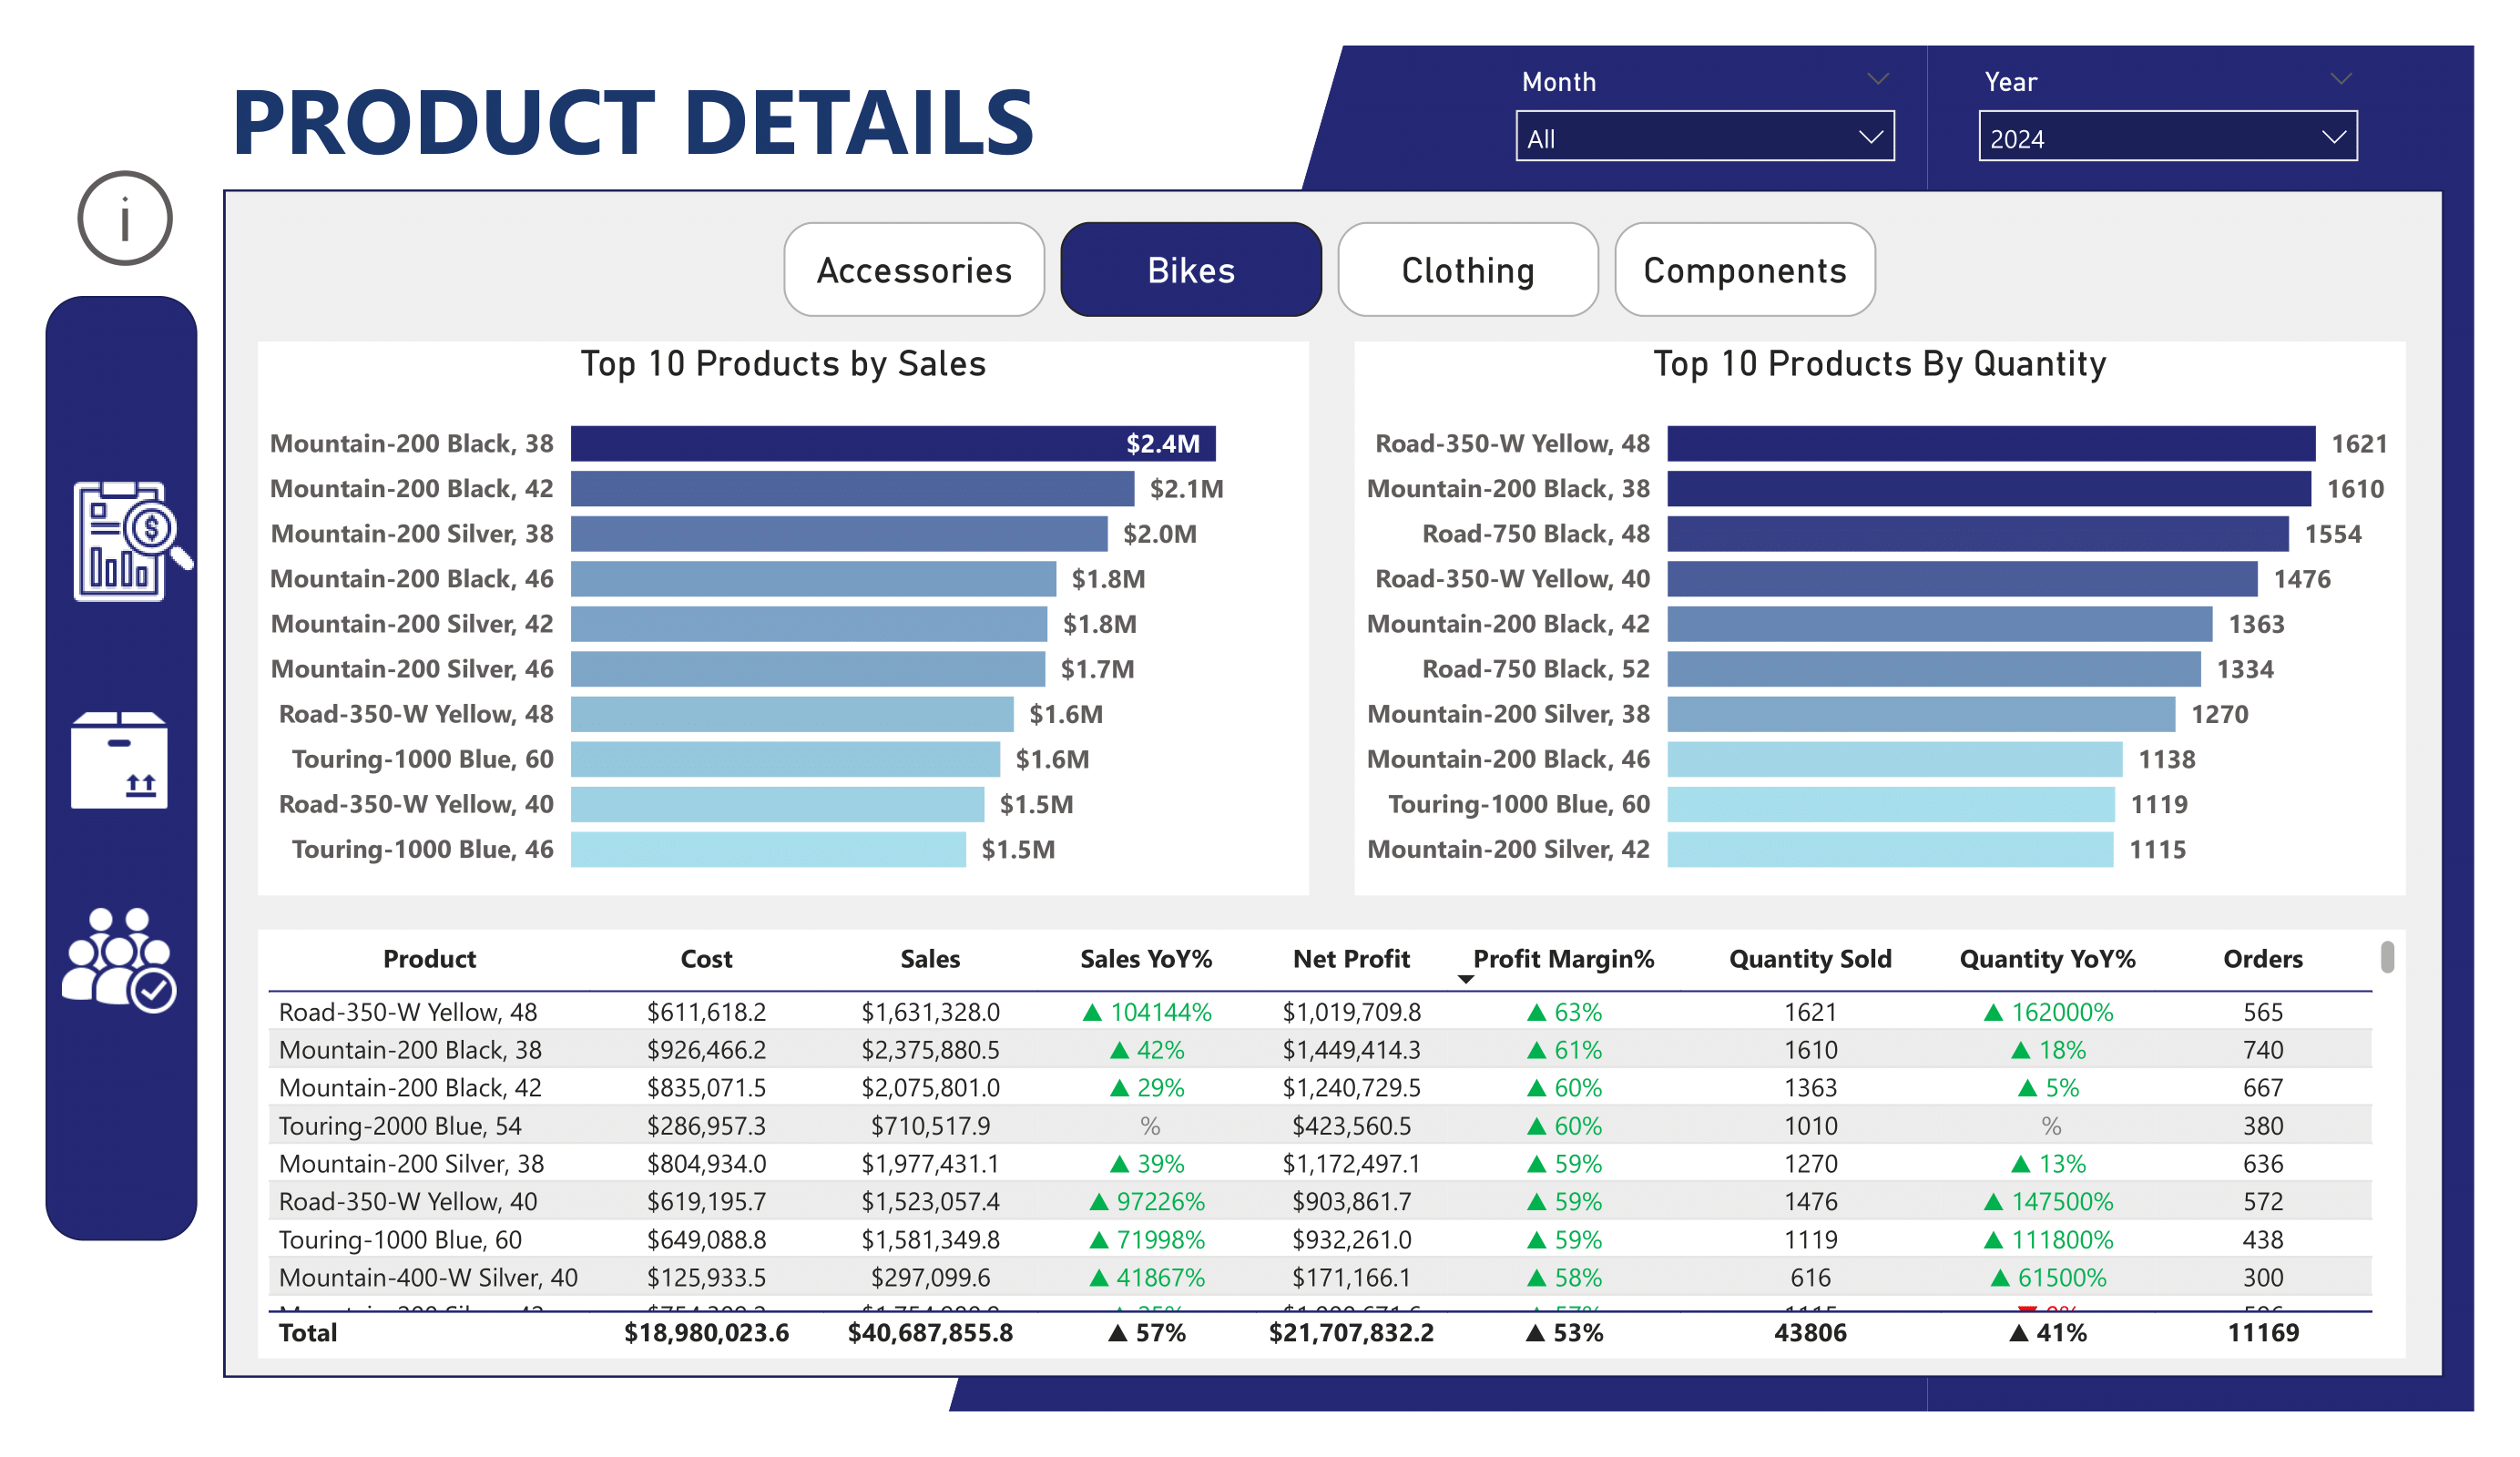

The page's visual inventory and layout, read from the dashboard file:
{"tool":"powerbi","page":{"name":"Product Details","canvas":[1280,720],"ordinal":1},"visuals":[{"type":"group","id":"g1","title":"Background","box":[0,0,1280,720],"z":0},{"type":"shape","box":[476,0,804,720],"z":0,"group":"g1"},{"type":"image","box":[6.2,224.1,80,75],"z":0,"group":"g2"},{"type":"shape","box":[992,0,288,720],"z":1000,"group":"g1"},{"type":"group","id":"g2","title":"Buttons","box":[4,56,82.2,476],"z":1000},{"type":"image","box":[4,338,70,78],"z":1000,"group":"g2"},{"type":"textbox","box":[92,0,640,84],"z":2000},{"type":"shape","box":[0,132,80,498],"z":2000,"group":"g1"},{"type":"image","box":[4,428,70,104],"z":2000,"group":"g2"},{"type":"actionButton","box":[10,56,64,70],"z":3000,"group":"g2"},{"type":"shape","box":[94,76,1170,626],"z":3000,"group":"g1"},{"type":"barChart","title":"Top 10 Products By Quantity","fields":{"Y":["_Measures.Total Quantity Sold"],"Category":["Product_dim.ProductName"]},"box":[690,156,554,292],"z":4000,"group":"g1"},{"type":"tableEx","fields":{"Values":["Product_dim.ProductName","_Measures.Total Cost","_Measures.Net Sales","_Measures.Sales YoY Label","_Measures.Net Profit","_Measures.Profit Margin Label","_Measures.Total Quantity Sold","_Measures.Quantity YoY Label","_Measures.Total Orders"]},"box":[112,466,1132,226],"z":4000},{"type":"barChart","title":"Top 10 Products by Sales","fields":{"Y":["_Measures.Net Sales"],"Category":["Product_dim.ProductName"]},"box":[112,156,554,292],"z":5000},{"type":"slicer","title":"Year","fields":{"Values":["Date_dim.CalendarYear"]},"box":[1014,6,210,64],"z":6000},{"type":"slicer","title":"Year","fields":{"Values":["Date_dim.Month_Abbrv"]},"box":[770,6,210,64],"z":7000},{"type":"advancedSlicerVisual","fields":{"Values":["Product_dim.Category"]},"box":[384,88,588,60],"z":8000}]}

Visuals, with their boxes on the page's 1280x720 design canvas (x1, y1, x2, y2). These are canvas units, not pixel positions in the 2520x1457 screenshot, which may show the page scaled, cropped or inside an application window:
"Background" group: <bbox>0, 0, 1280, 720</bbox>
shape: <bbox>476, 0, 1280, 720</bbox>
image: <bbox>6, 224, 86, 299</bbox>
shape: <bbox>992, 0, 1280, 720</bbox>
"Buttons" group: <bbox>4, 56, 86, 532</bbox>
image: <bbox>4, 338, 74, 416</bbox>
textbox: <bbox>92, 0, 732, 84</bbox>
shape: <bbox>0, 132, 80, 630</bbox>
image: <bbox>4, 428, 74, 532</bbox>
actionButton: <bbox>10, 56, 74, 126</bbox>
shape: <bbox>94, 76, 1264, 702</bbox>
"Top 10 Products By Quantity" barChart: <bbox>690, 156, 1244, 448</bbox>
tableEx - Product_dim.ProductName x _Measures.Total Cost: <bbox>112, 466, 1244, 692</bbox>
"Top 10 Products by Sales" barChart: <bbox>112, 156, 666, 448</bbox>
"Year" slicer: <bbox>1014, 6, 1224, 70</bbox>
"Year" slicer: <bbox>770, 6, 980, 70</bbox>
advancedSlicerVisual - Product_dim.Category: <bbox>384, 88, 972, 148</bbox>
